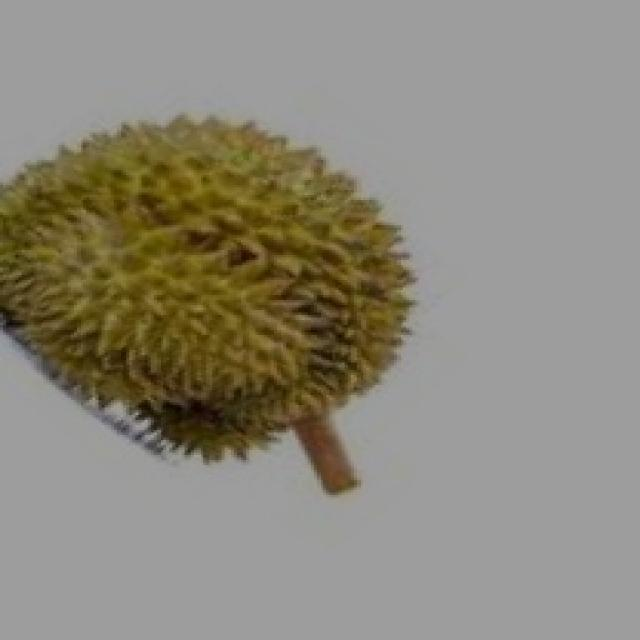fruit: (0, 94, 412, 507)
